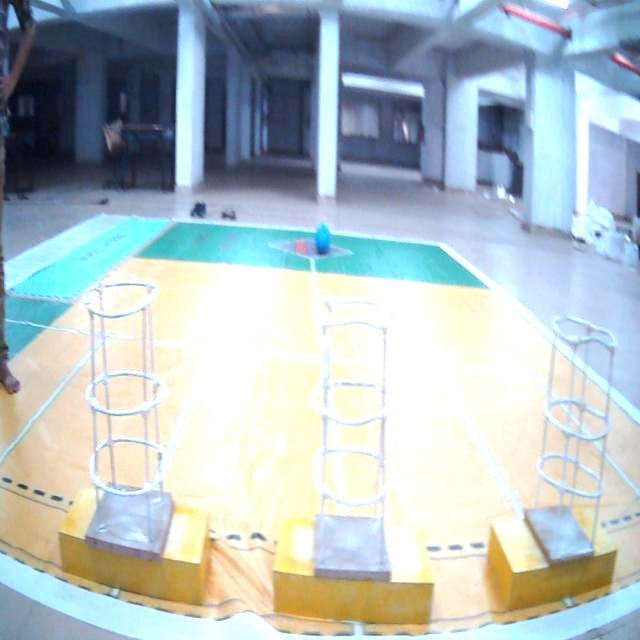silo: (310, 296, 394, 582), (86, 278, 166, 548), (531, 310, 602, 565)
